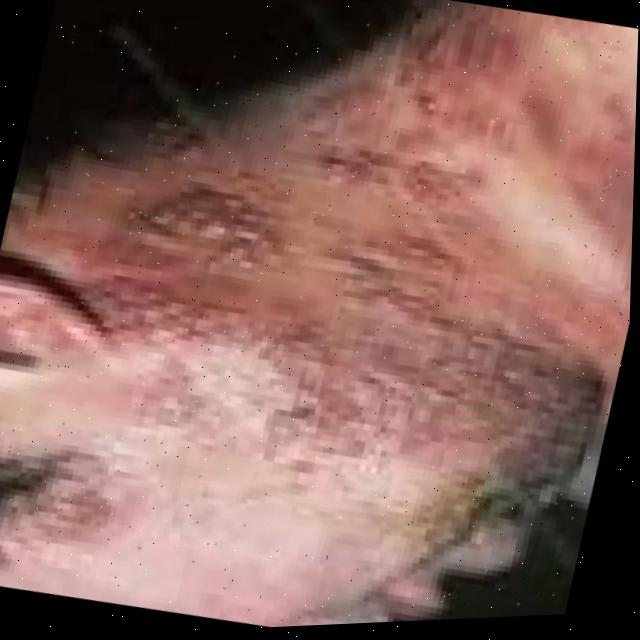Shingles: (78, 0, 640, 516)
